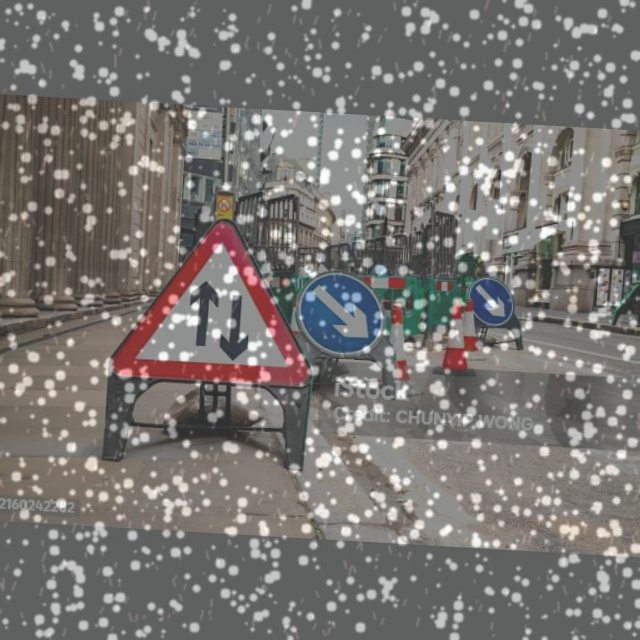Mandatory_Two_Way_Traffic: (120, 211, 315, 394)
